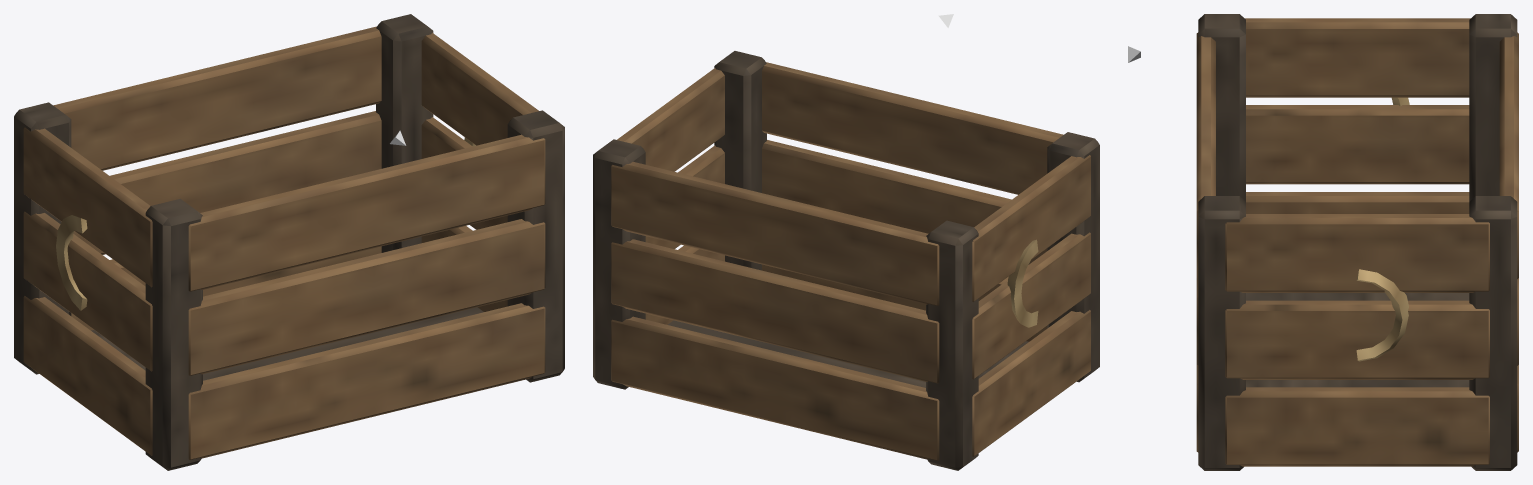
File: SM_StorageBox.fbx
3 renders of one model, left to right at view 1: azimuth 30°, elevation 25°; view 2: azimuth 150°, elevation 25°; view 3: azimuth 270°, elevation 25°, orthographic. The views are drawn at different scales.
Parts seen in each view (by area): view 1: SM_StorageBox; view 2: SM_StorageBox; view 3: SM_StorageBox.
Boxes of the visible parts, x1=… form: SM_StorageBox: x1=14, y1=14, x2=564, y2=470; SM_StorageBox: x1=593, y1=51, x2=1099, y2=470; SM_StorageBox: x1=1196, y1=14, x2=1518, y2=470.
Size of the model in its own units: 3.13 by 2.24 by 2.45.
Materials: 1 (1 with a texture image).
